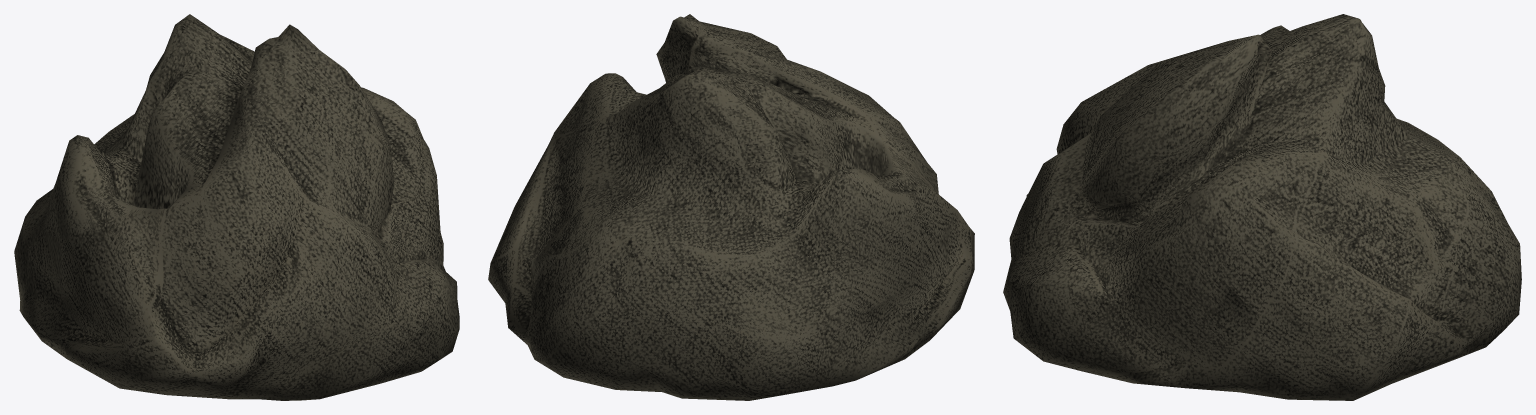
File: mm7_deco_7rock08.glb
3 renders of one model, left to right at view 1: azimuth 30°, elevation 25°; view 2: azimuth 150°, elevation 25°; view 3: azimuth 270°, elevation 25°, orthographic. The views are drawn at different scales.
Visible parts, largest first — view 1: Rock7_08; view 2: Rock7_08; view 3: Rock7_08.
Boxes of the visible parts, left/top/right/bottom form: Rock7_08: left=14, top=14, right=459, bottom=400; Rock7_08: left=488, top=14, right=974, bottom=400; Rock7_08: left=1003, top=14, right=1521, bottom=400.
Bounding box in the file's own units: 1.66 × 1.14 × 1.82.
1 material, 1 textured.
